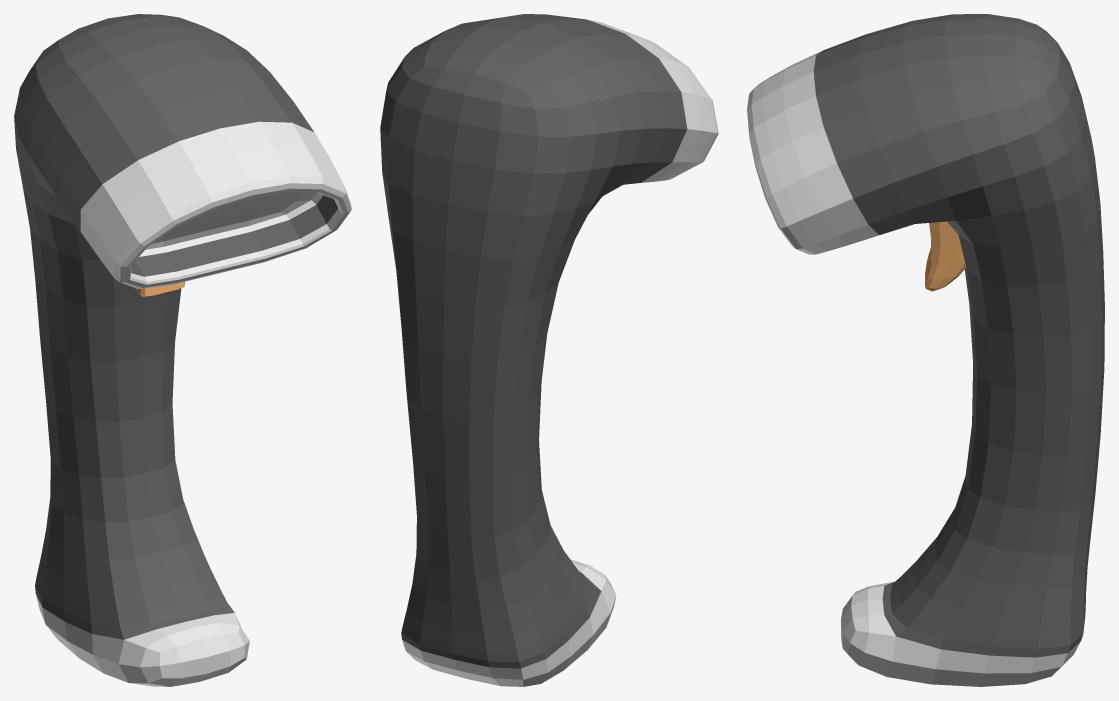
The model's file is barcode Reader.fbx.
The picture shows the model from 3 angles, left to right: view 1: azimuth 30°, elevation 25°; view 2: azimuth 150°, elevation 25°; view 3: azimuth 270°, elevation 25°; orthographic projection.
Visible parts, largest first — view 1: Cube; view 2: Cube; view 3: Cube, Cube.001.
Part boxes in pixels (left/top/right/bottom): Cube: left=14, top=14, right=351, bottom=686; Cube: left=380, top=14, right=718, bottom=686; Cube: left=747, top=14, right=1104, bottom=686; Cube.001: left=925, top=221, right=965, bottom=291.
Bounding box in the file's own units: 333 × 825 × 423.
